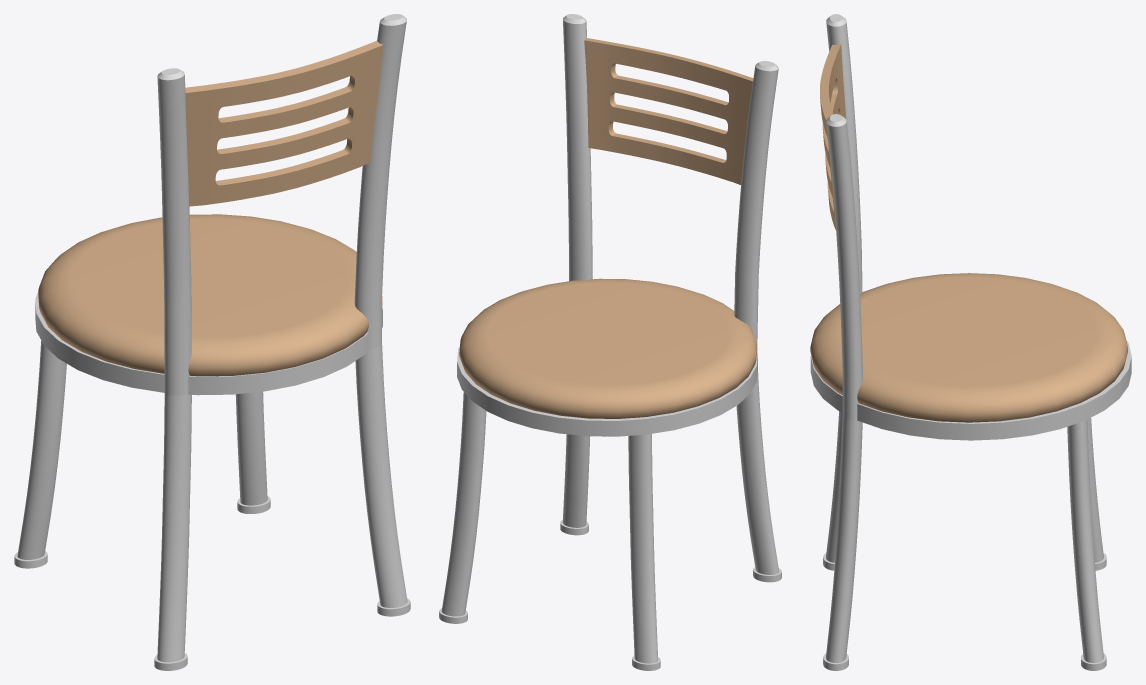
File: Chaise5_7.fbx
The picture shows the model from 3 angles, left to right: view 1: azimuth 30°, elevation 25°; view 2: azimuth 150°, elevation 25°; view 3: azimuth 270°, elevation 25°; orthographic projection. The views are drawn at different scales.
Visible parts, largest first — view 1: pCylinder1683, pCube2686, pCylinder1687, pCylinder1682, pCylinder1686, pCylinder1690, pCylinder1684, pCylinder1688, pCylinder1689; view 2: pCylinder1683, pCube2686, pCylinder1687, pCylinder1682, pCylinder1684, pCylinder1688, pCylinder1689, pCylinder1686, pCylinder1690; view 3: pCylinder1683, pCylinder1682, pCylinder1684, pCylinder1690, pCylinder1689, pCylinder1687, pCube2686, pCylinder1686, pCylinder1688.
Boxes of the visible parts, left/top/right/bottom form: pCylinder1683: left=38, top=214, right=382, bottom=376; pCube2686: left=185, top=40, right=383, bottom=206; pCylinder1687: left=157, top=68, right=191, bottom=395; pCylinder1682: left=354, top=14, right=406, bottom=349; pCylinder1686: left=154, top=393, right=191, bottom=670; pCylinder1690: left=355, top=344, right=410, bottom=616; pCylinder1684: left=35, top=291, right=382, bottom=395; pCylinder1688: left=14, top=340, right=66, bottom=568; pCylinder1689: left=235, top=391, right=270, bottom=513; pCylinder1683: left=459, top=278, right=757, bottom=418; pCube2686: left=584, top=38, right=753, bottom=184; pCylinder1687: left=734, top=61, right=778, bottom=343; pCylinder1682: left=563, top=14, right=592, bottom=281; pCylinder1684: left=457, top=346, right=757, bottom=436; pCylinder1688: left=628, top=434, right=660, bottom=670; pCylinder1689: left=439, top=392, right=486, bottom=623; pCylinder1686: left=736, top=370, right=781, bottom=582; pCylinder1690: left=560, top=434, right=590, bottom=535; pCylinder1683: left=810, top=273, right=1127, bottom=422; pCylinder1682: left=826, top=114, right=862, bottom=419; pCylinder1684: left=810, top=340, right=1131, bottom=440; pCylinder1690: left=823, top=416, right=862, bottom=670; pCylinder1689: left=1067, top=420, right=1106, bottom=670; pCylinder1687: left=826, top=14, right=862, bottom=294; pCube2686: left=820, top=44, right=846, bottom=229; pCylinder1686: left=823, top=411, right=842, bottom=570; pCylinder1688: left=1087, top=417, right=1106, bottom=570.
Bounding box in the file's own units: 44.7 × 83.92 × 44.78.
